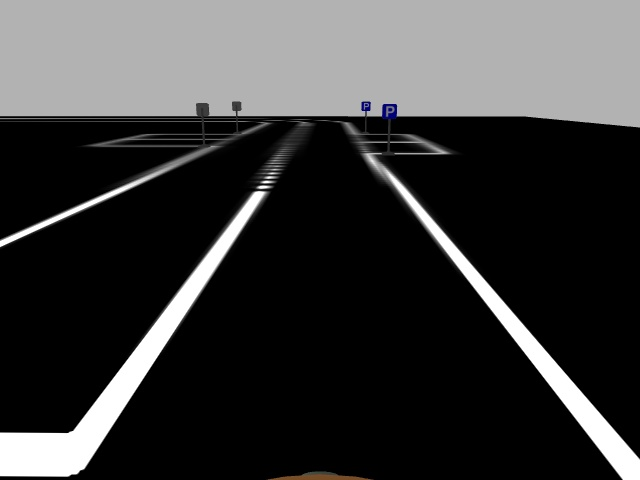parking: (381, 102, 398, 119), (361, 99, 371, 111)
